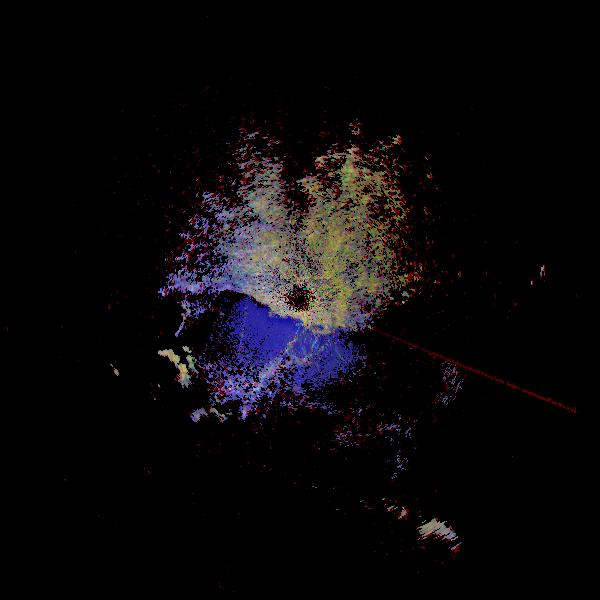roost: (130, 333, 205, 408)
